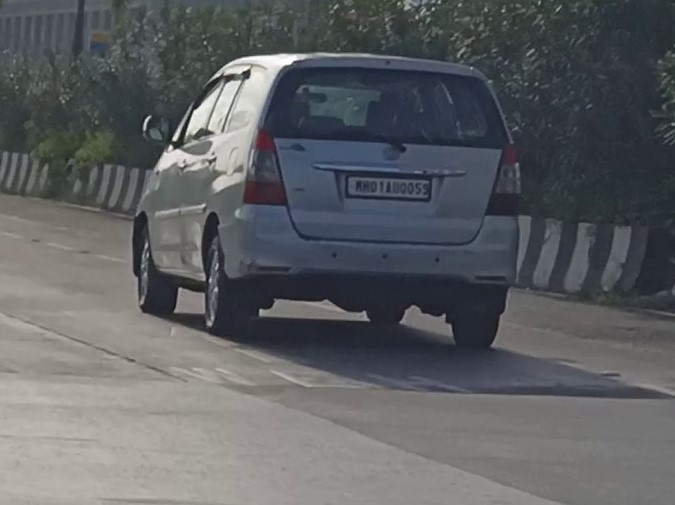MH01AU0059: (346, 177, 430, 200)
